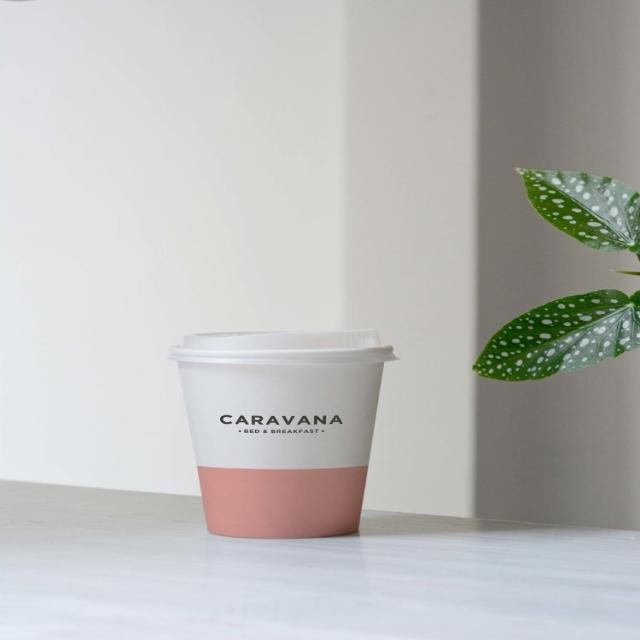paper cup: (169, 327, 401, 539)
